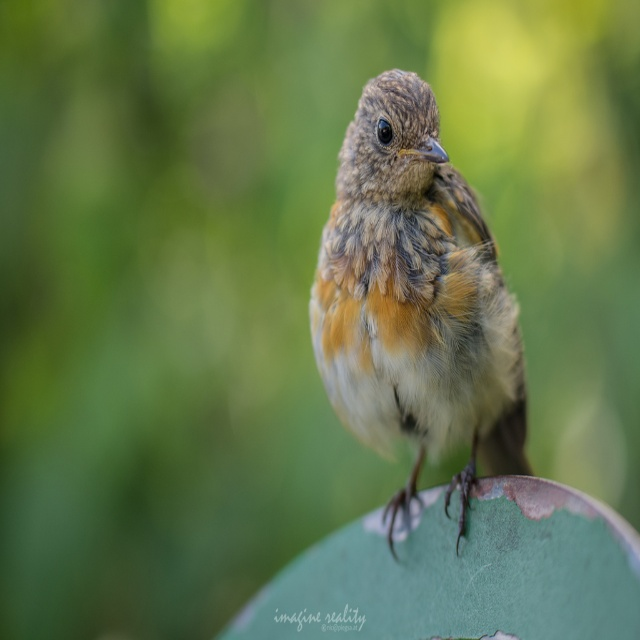Sparrow: (306, 68, 537, 570)
